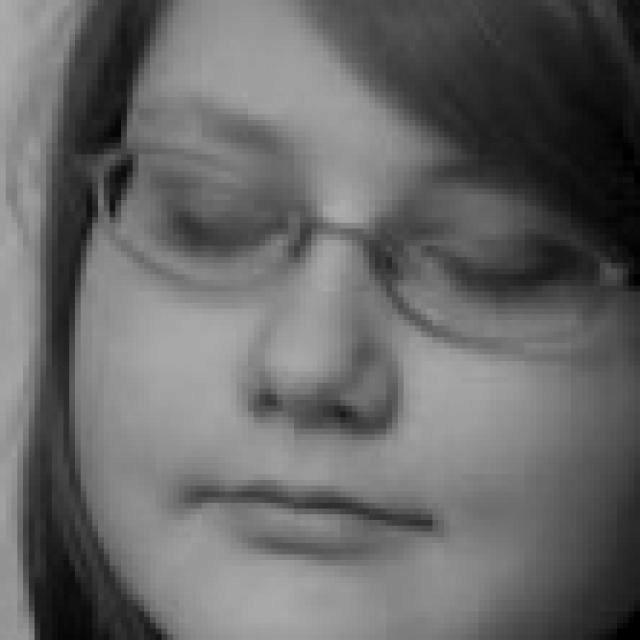real: (64, 22, 619, 630), (152, 148, 592, 318)
